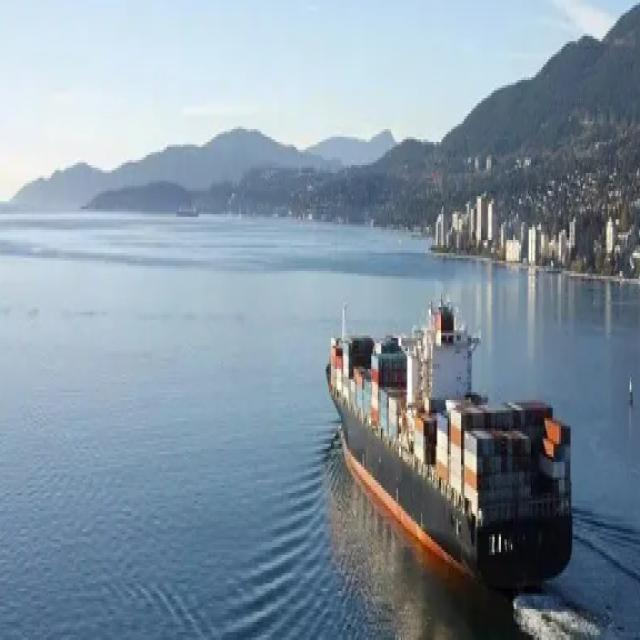cargoship: (326, 286, 574, 592)
